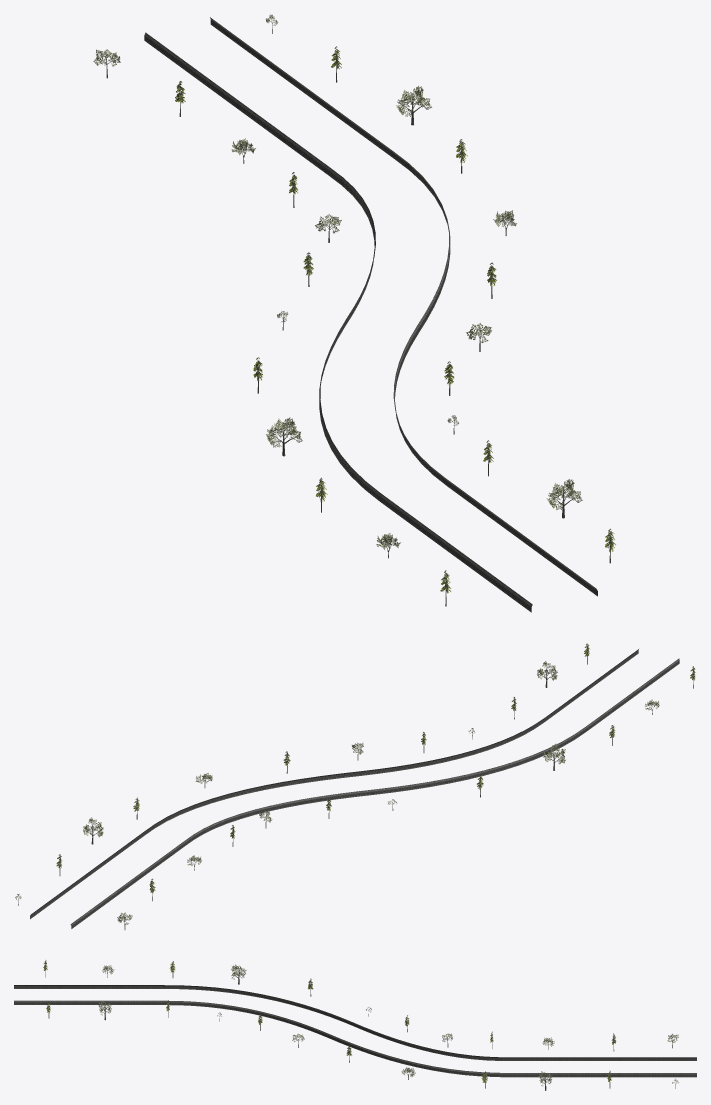
File: R-1-2-A_Transparent.obj
The picture shows the model from 3 angles, top to bottom: view 1: azimuth 30°, elevation 25°; view 2: azimuth 150°, elevation 25°; view 3: azimuth 270°, elevation 25°; orthographic projection. The views are drawn at different scales.
Visible parts, largest first — view 1: Transparent_Wirefence_Wirefence.001_Wirefence_Wirefence.001, Transparent_Trees_Tree-B-04.001_Trees_Tree-B-04.001; view 2: Transparent_Wirefence_Wirefence.001_Wirefence_Wirefence.001, Transparent_Trees_Tree-B-04.001_Trees_Tree-B-04.001; view 3: Transparent_Wirefence_Wirefence.001_Wirefence_Wirefence.001, Transparent_Trees_Tree-B-04.001_Trees_Tree-B-04.001.
Boxes of the visible parts, <box> form: Transparent_Wirefence_Wirefence.001_Wirefence_Wirefence.001: <box>144,17,597,612</box>; Transparent_Trees_Tree-B-04.001_Trees_Tree-B-04.001: <box>93,14,615,606</box>; Transparent_Wirefence_Wirefence.001_Wirefence_Wirefence.001: <box>30,649,679,928</box>; Transparent_Trees_Tree-B-04.001_Trees_Tree-B-04.001: <box>15,643,695,929</box>; Transparent_Wirefence_Wirefence.001_Wirefence_Wirefence.001: <box>14,985,696,1077</box>; Transparent_Trees_Tree-B-04.001_Trees_Tree-B-04.001: <box>43,960,678,1090</box>.
Bounding box in the file's own units: 1242 × 102 × 3000.
